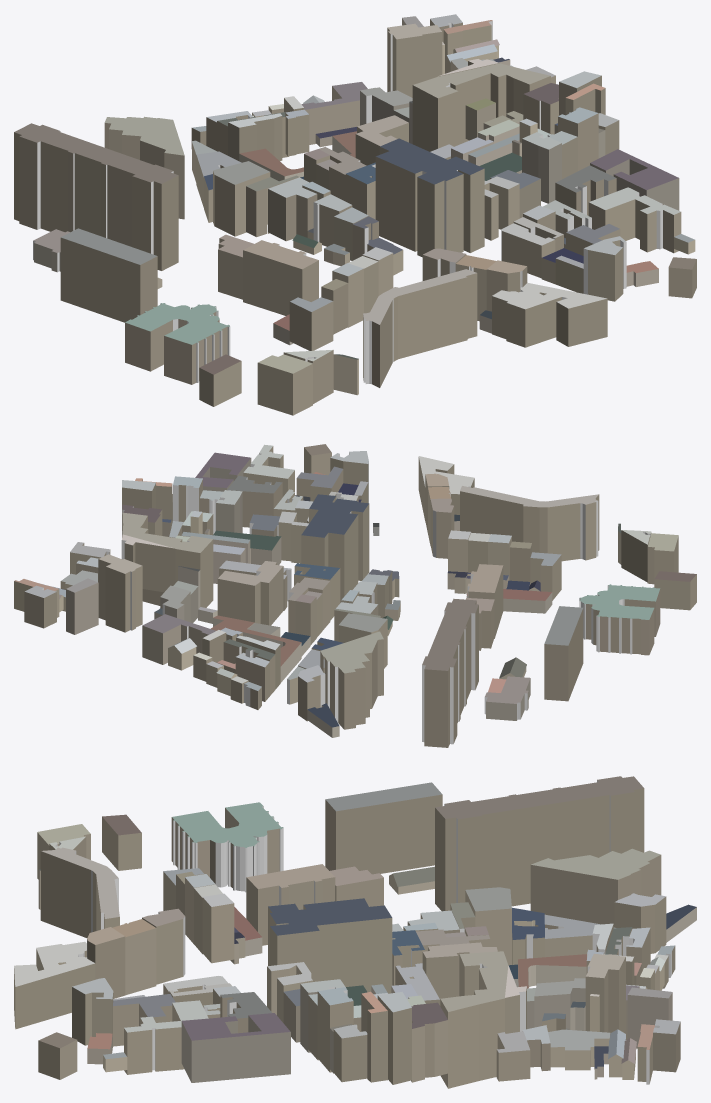
3 views of the same model, one above another, from view 1: azimuth 30°, elevation 25°; view 2: azimuth 150°, elevation 25°; view 3: azimuth 270°, elevation 25° (orthographic). The views are drawn at different scales.
Parts seen in each view (by area): view 1: tuile; view 2: tuile; view 3: tuile.
Boxes of the visible parts, x1,y1,x2,y2 form: tuile: (14, 14, 696, 415); tuile: (14, 444, 696, 747); tuile: (14, 776, 696, 1088).
Bounding box in the file's own units: 275 × 54.04 × 271.
